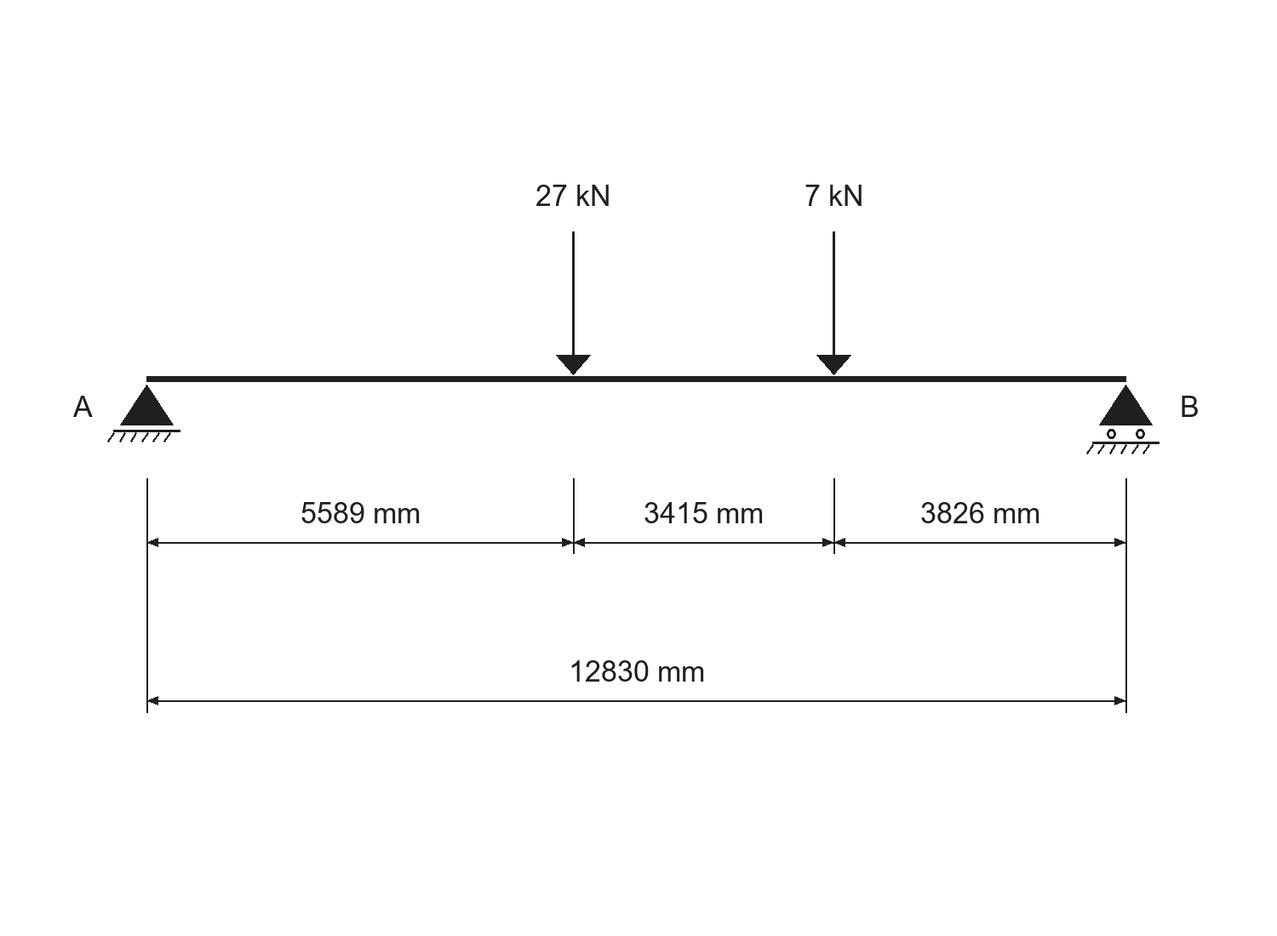pin_support: (107, 385, 180, 442)
point_load: (556, 231, 591, 375), (816, 231, 851, 375)
roller_support: (1086, 385, 1160, 454)
